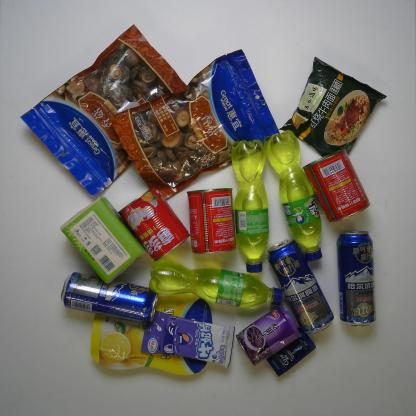Alcohol: (267, 237, 335, 336), (60, 270, 159, 326), (336, 229, 378, 329)
Candy: (140, 309, 236, 370)
Canned Food: (117, 184, 192, 264), (302, 146, 372, 224), (235, 304, 302, 367), (185, 186, 238, 256)
Dried Food: (19, 21, 187, 202), (107, 47, 283, 202)
Dried Fruit: (89, 294, 214, 378)
Drink: (263, 129, 324, 262), (148, 258, 284, 310), (230, 138, 270, 274)
Instant Noodles: (278, 54, 388, 158)
Personal Hygiene: (266, 326, 317, 379)
Tissue: (58, 194, 146, 287)
